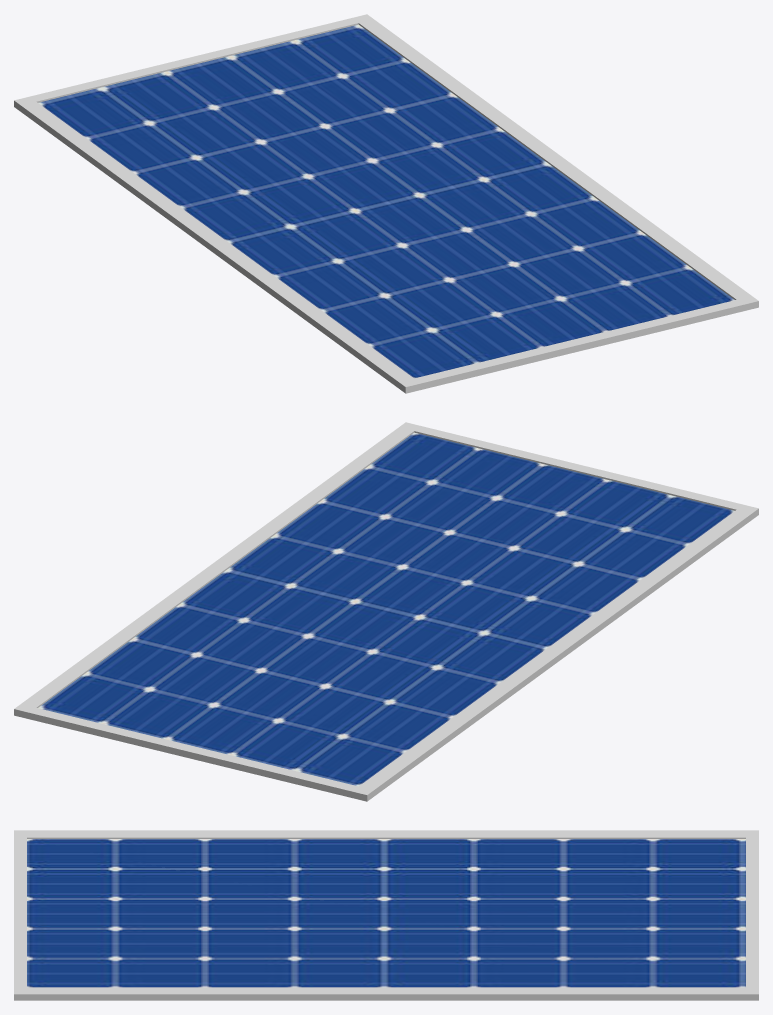
The model's file is blue panel monofacial.glb.
3 renders of one model, top to bottom at view 1: azimuth 30°, elevation 25°; view 2: azimuth 150°, elevation 25°; view 3: azimuth 270°, elevation 25°, orthographic. The views are drawn at different scales.
Parts seen in each view (by area): view 1: panel.001; view 2: panel.001; view 3: panel.001.
Boxes of the visible parts, box(x1,y1,x2,y2) form: panel.001: box(14, 14, 758, 393); panel.001: box(14, 422, 758, 801); panel.001: box(14, 830, 758, 1000).
Bounding box in the file's own units: 1.13 × 0.02 × 2.18.
2 materials, 1 textured.
